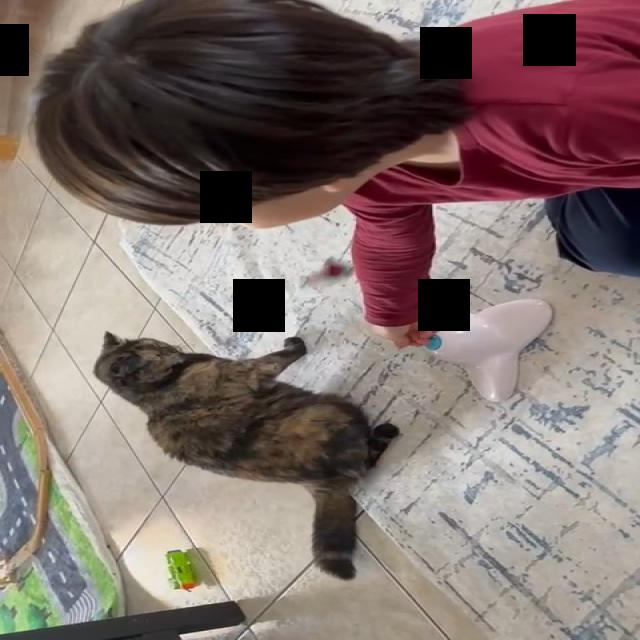authorized: (92, 330, 401, 580)
